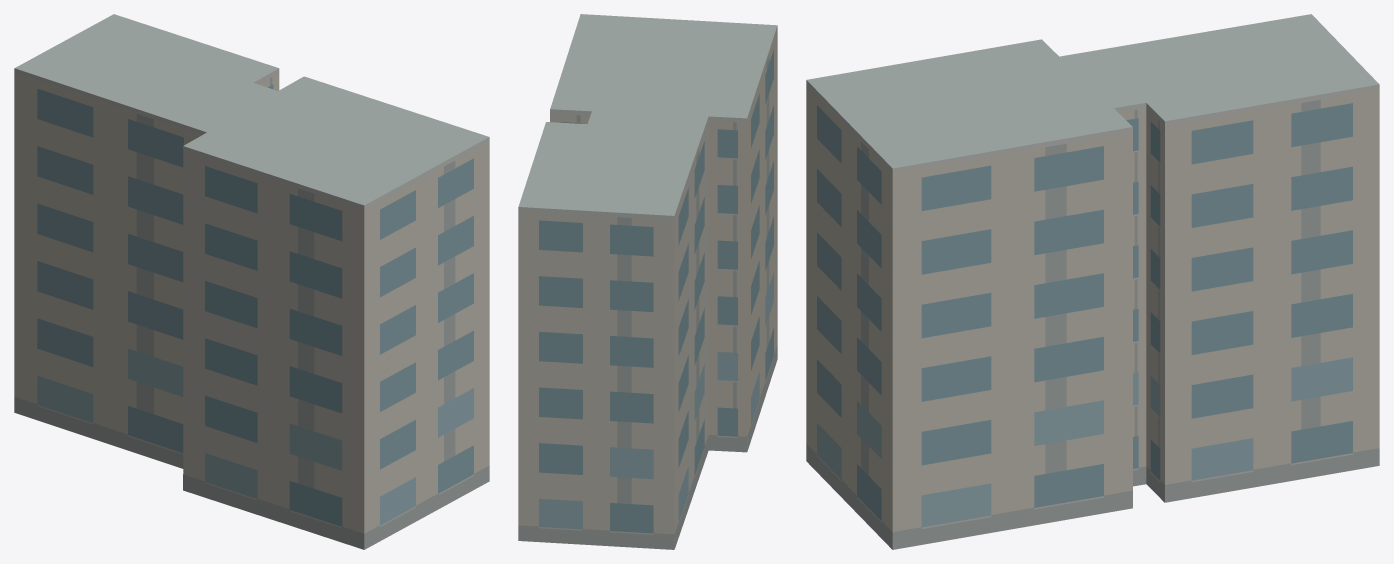
File: survey-upis-32568592.glb
The picture shows the model from 3 angles, left to right: view 1: azimuth 30°, elevation 25°; view 2: azimuth 150°, elevation 25°; view 3: azimuth 270°, elevation 25°; orthographic projection. The views are drawn at different scales.
Parts seen in each view (by area): view 1: survey-upis-32568592.tmp; view 2: survey-upis-32568592.tmp; view 3: survey-upis-32568592.tmp.
Boxes of the visible parts, x1=… form: survey-upis-32568592.tmp: x1=14, y1=14, x2=489, y2=549; survey-upis-32568592.tmp: x1=518, y1=14, x2=777, y2=549; survey-upis-32568592.tmp: x1=806, y1=14, x2=1379, y2=549.
Bounding box in the file's own units: 15.48 × 17.8 × 24.25.
